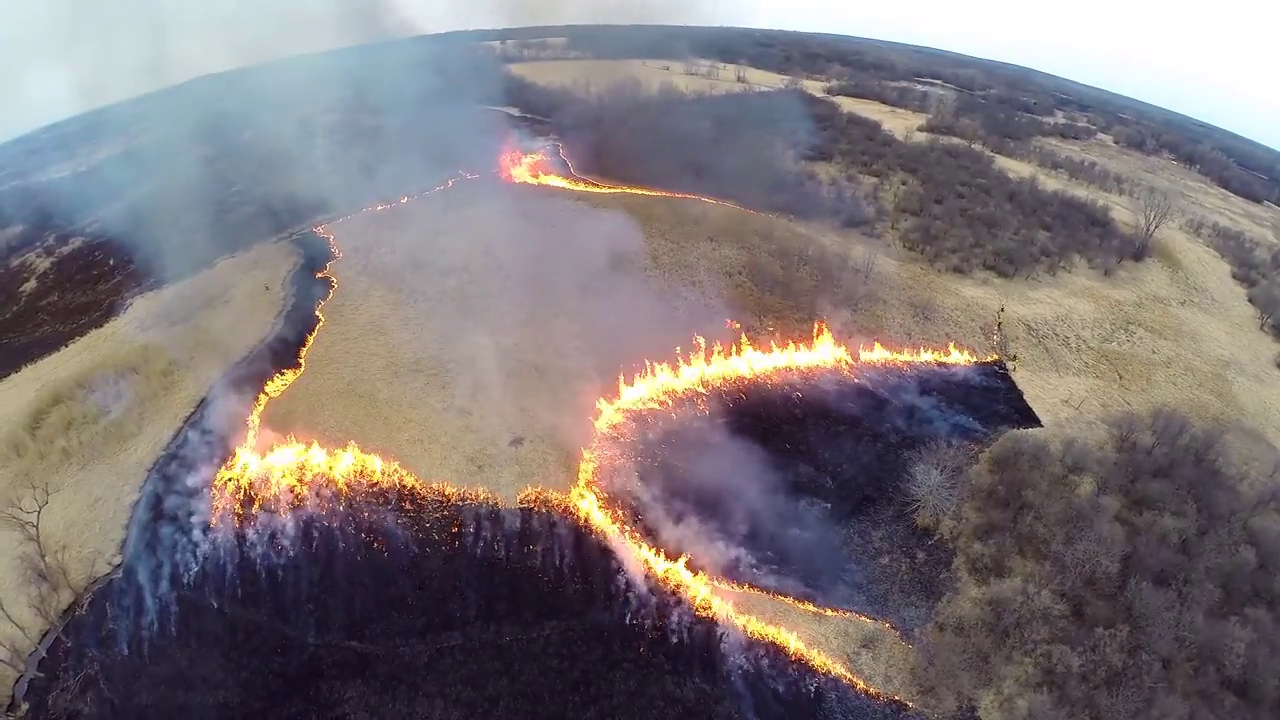forest_fire: (561, 322, 975, 698), (210, 218, 504, 524), (520, 487, 846, 674), (211, 301, 426, 516), (593, 323, 987, 433), (499, 150, 745, 209)
